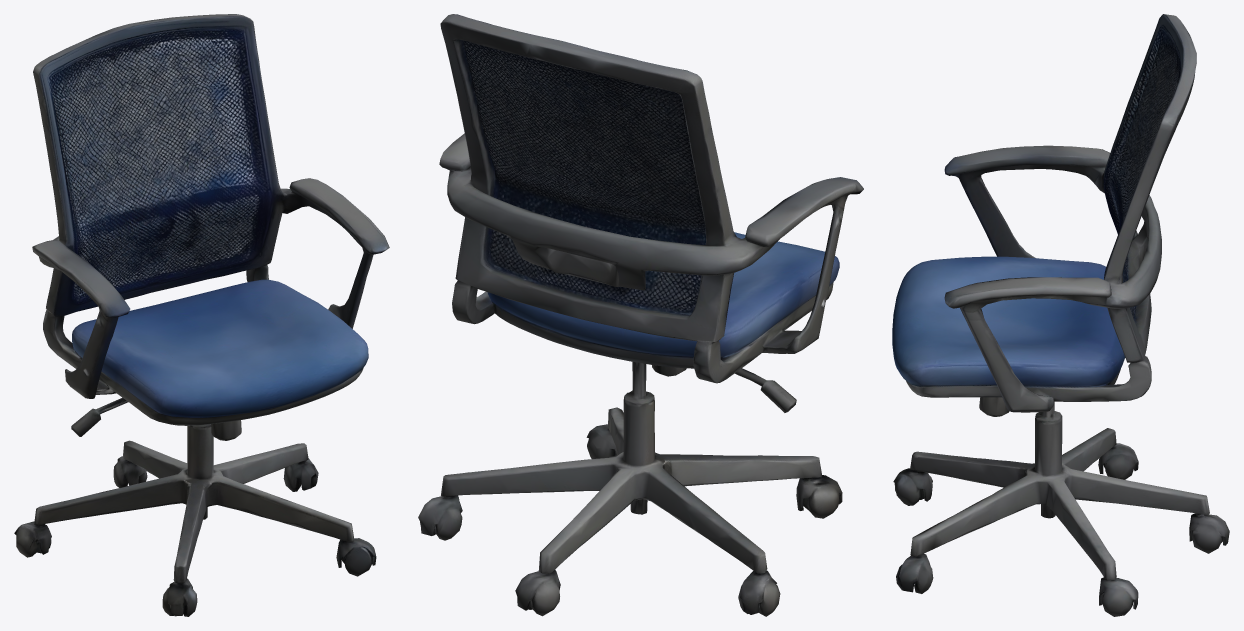
The model's file is office_chair.glb.
The picture shows the model from 3 angles, left to right: view 1: azimuth 30°, elevation 25°; view 2: azimuth 150°, elevation 25°; view 3: azimuth 270°, elevation 25°; orthographic projection. The views are drawn at different scales.
Visible parts, largest first — view 1: office_chair / mesh; view 2: office_chair / mesh; view 3: office_chair / mesh.
Part boxes in pixels (x1,y1,x2,y2): office_chair / mesh: (14, 14, 389, 616); office_chair / mesh: (418, 14, 863, 616); office_chair / mesh: (892, 14, 1229, 616).
Size of the model in its own units: 0.7718 by 1.18 by 0.7356.
Materials: 1 (1 with a texture image).
